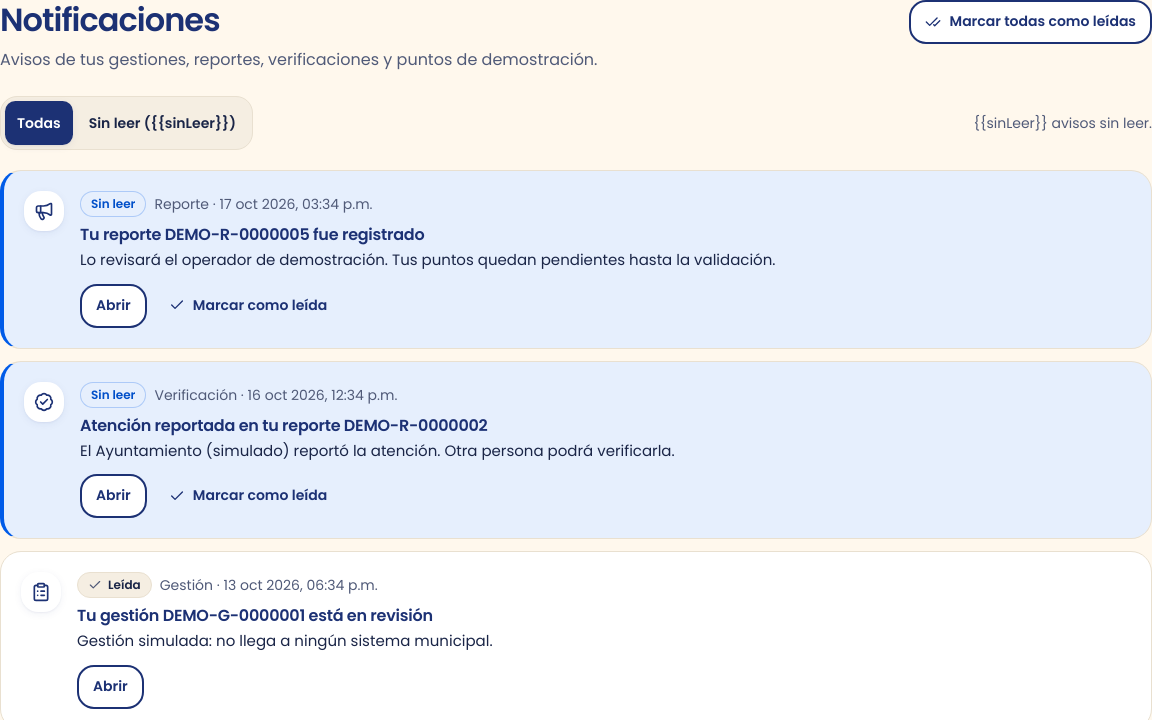
Test: NotificationsPage › marca como leída una y luego todas; el filtro «Sin leer» queda vacío
expect the text "Sin leer" is shown 2 times: met, box [91,194,135,214]; [91,384,135,404]
Click the button "Marcar como leída" below "Tu reporte DEMO-R-0000005 fue registrado".
click(248, 306)  # box [155,284,341,328]
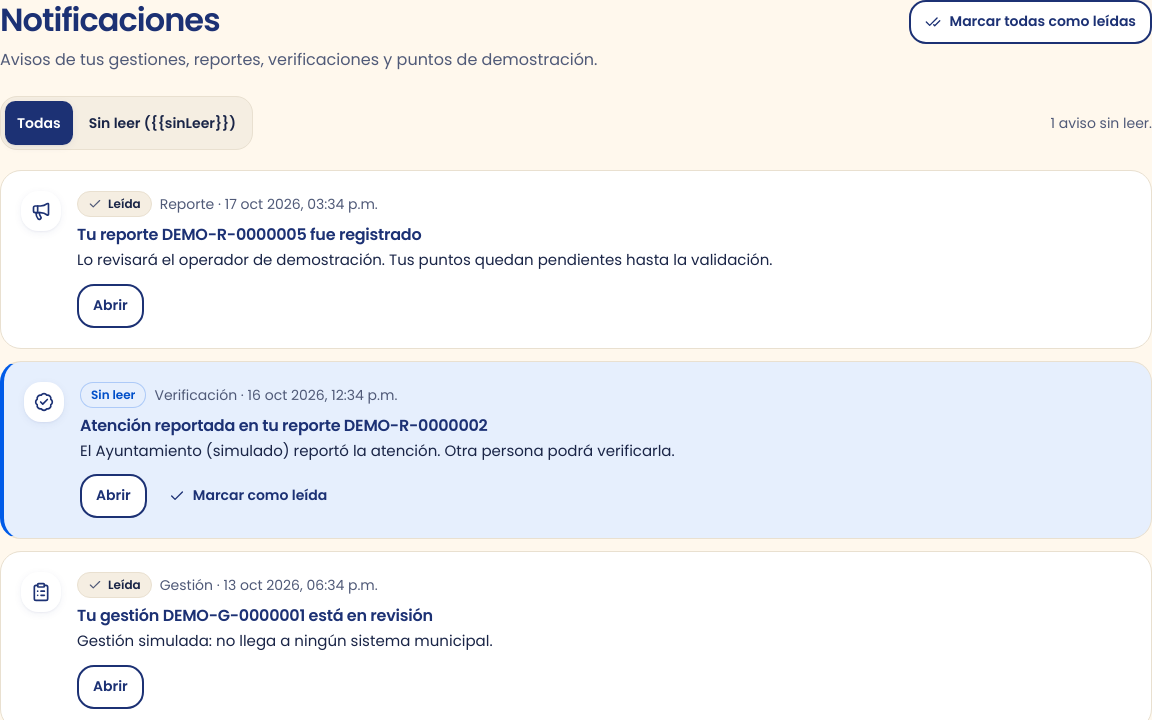
expect the text "Sin leer" is shown once: met, box [91,384,135,404]
Click the button "Marcar todas como leídas".
click(1031, 22)  # box [910,0,1151,44]
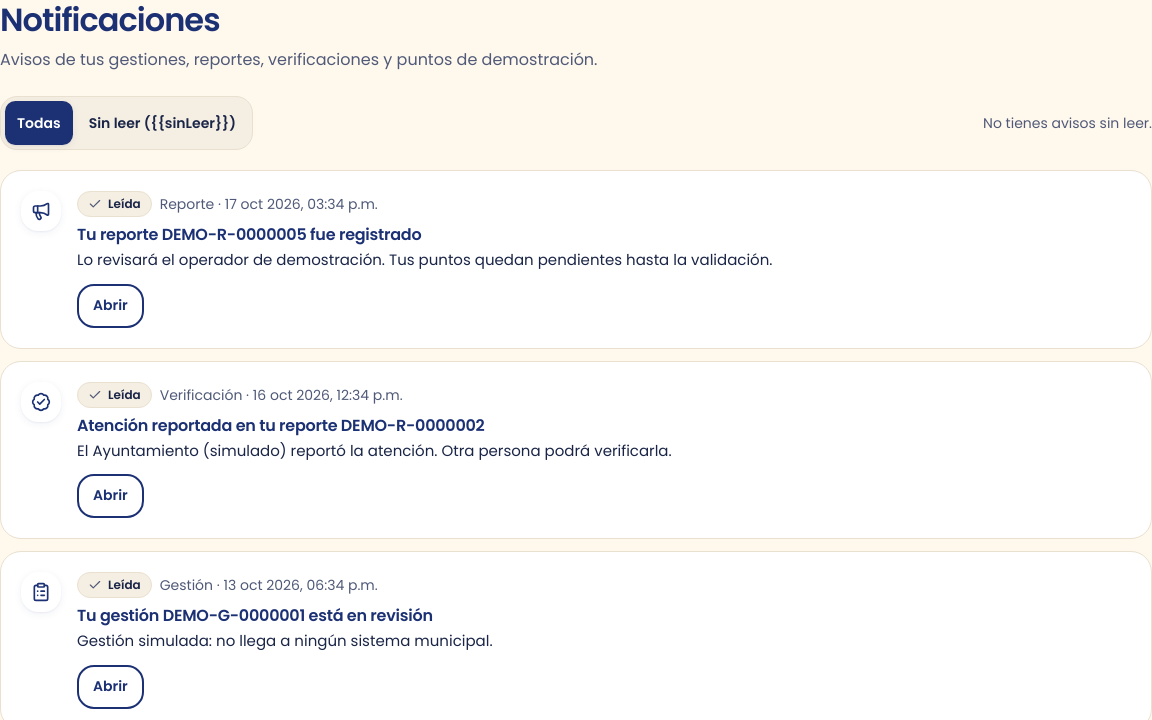
Click the radio button labelled "Sin leer ({{sinLeer}})".
click(162, 123)  # box [77,101,248,145]
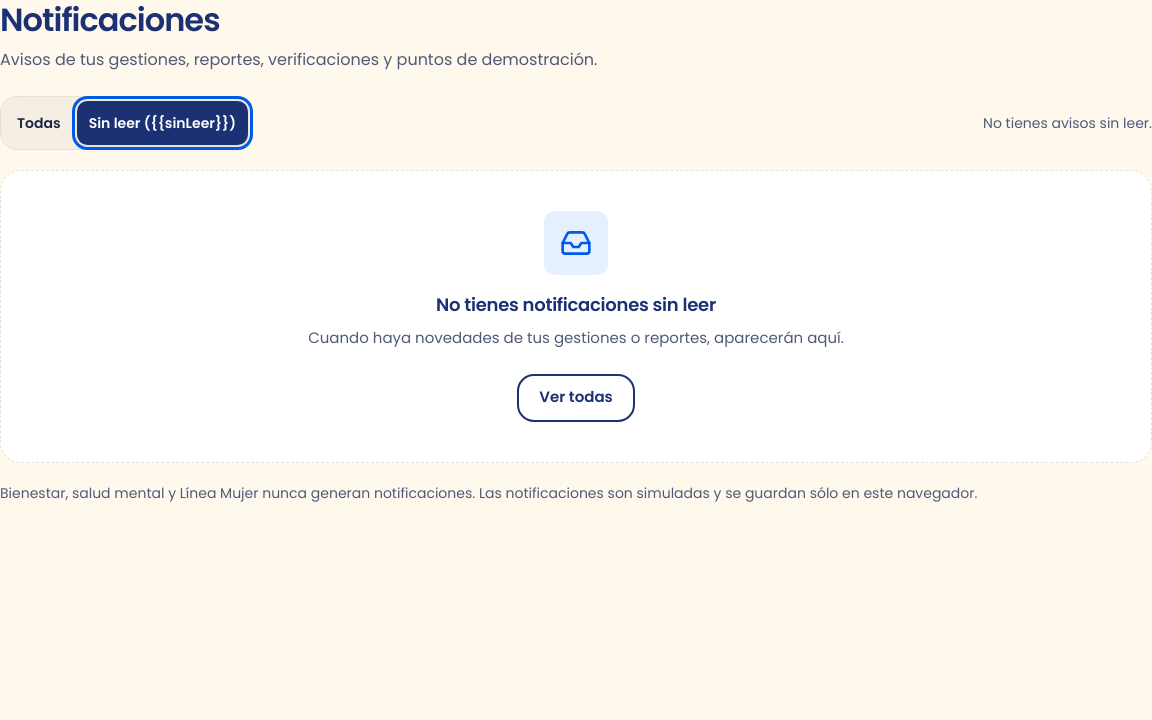
expect the heading "No tienes notificaciones sin leer" is shown: met, box [436,291,716,319]
